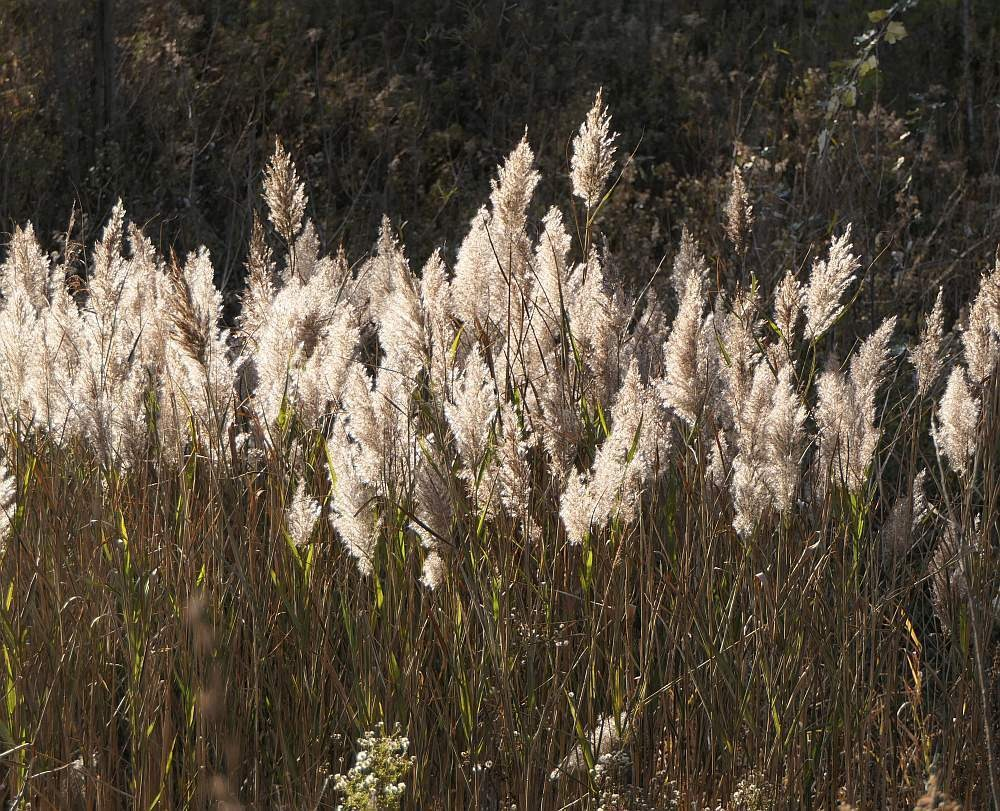common reed: (4, 87, 995, 805)
